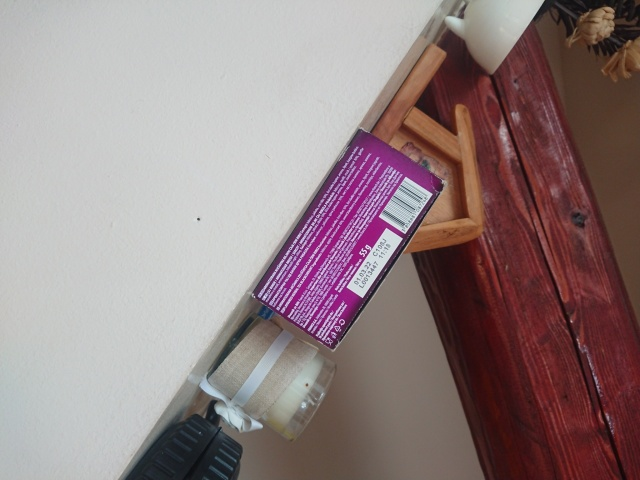Franck Black Currant Tea 60g: (247, 124, 450, 354)
